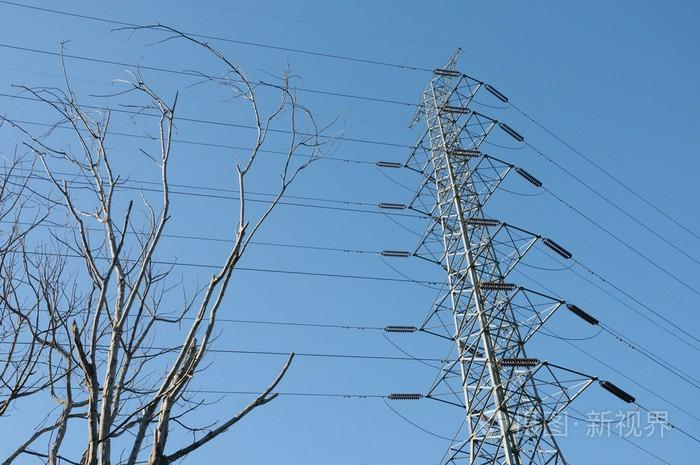power_tower: (373, 39, 620, 465)
